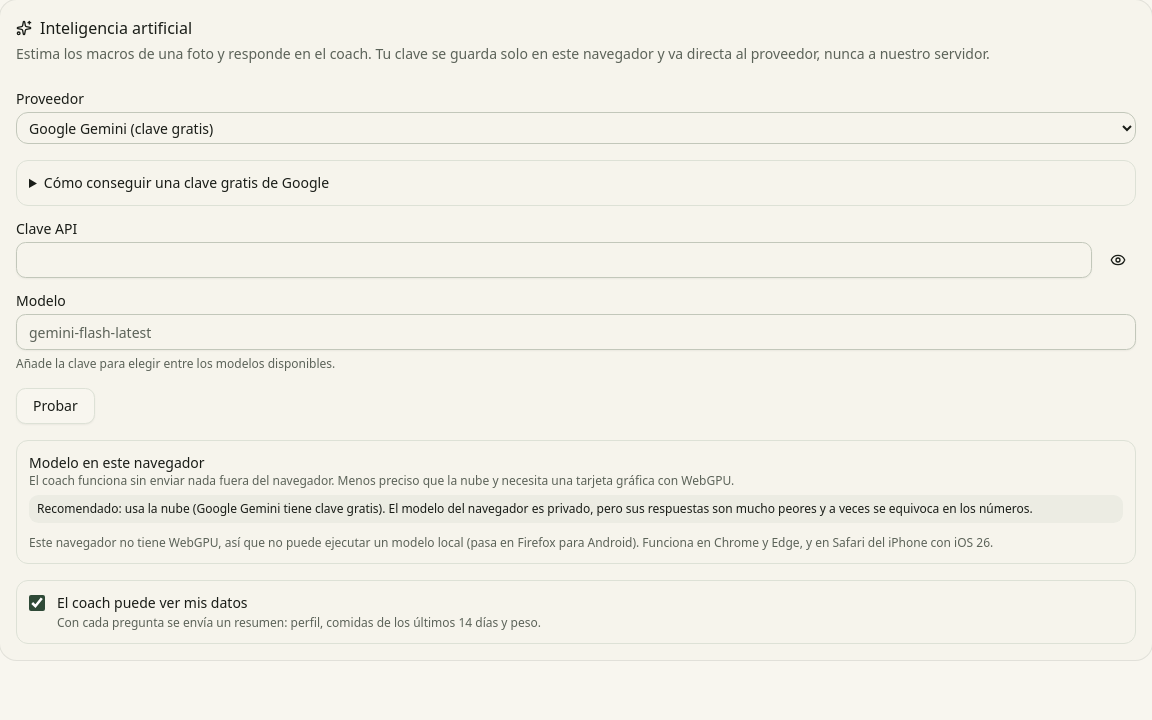
Ajustes → IA › explica una clave no válida
The image size is (1152, 720).
Type "wrong" into the password field labelled "Clave API" at (554, 260), box x1=16 y1=242 x2=1092 y2=278
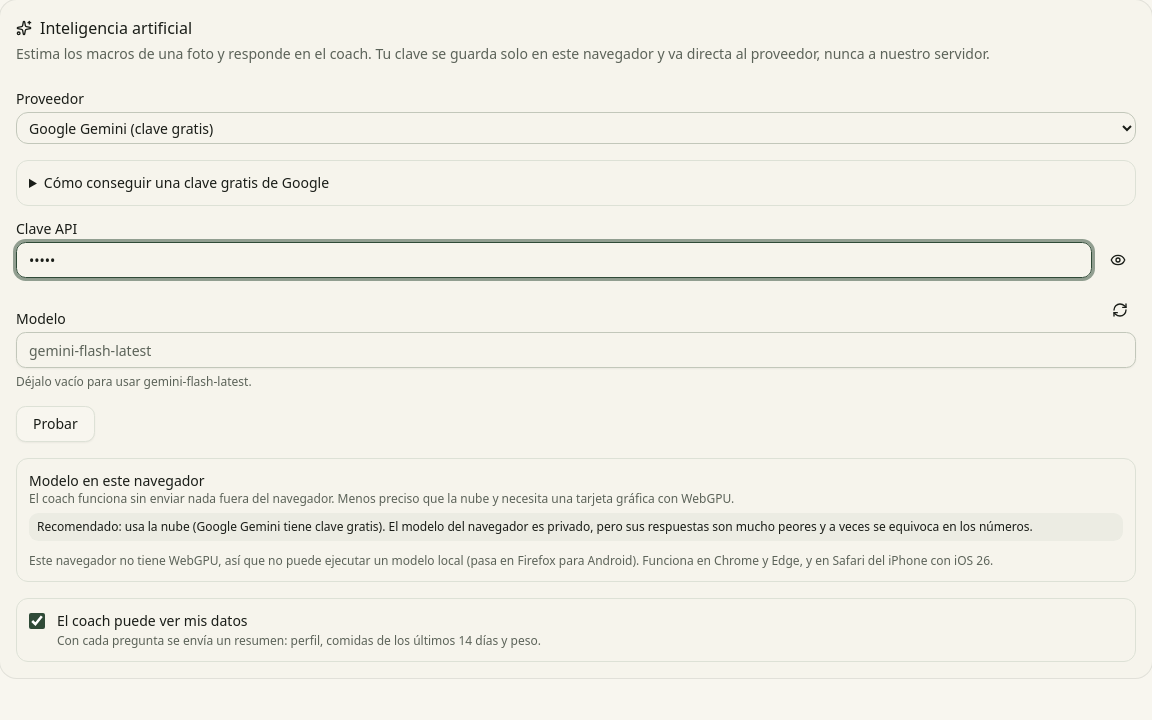
Click the button "Probar" at (55, 424), box x1=16 y1=406 x2=95 y2=442
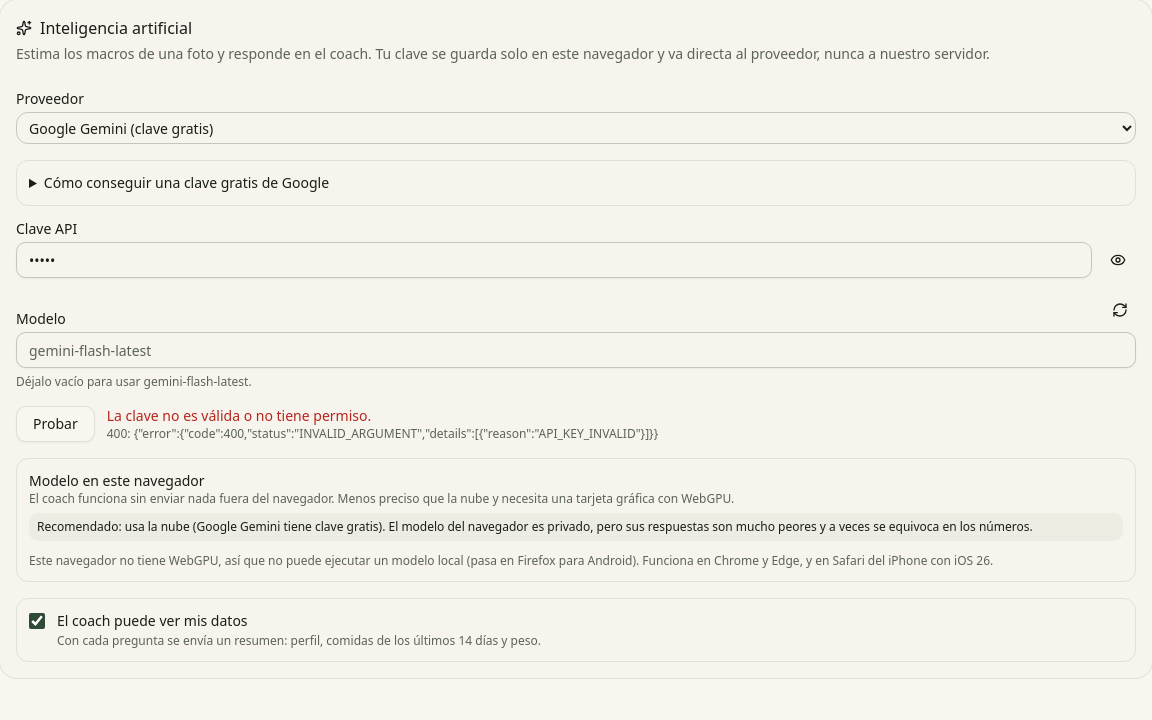
Expected: the text "La clave no es válida o no tiene permiso." is shown, x1=107 y1=406 x2=371 y2=425
